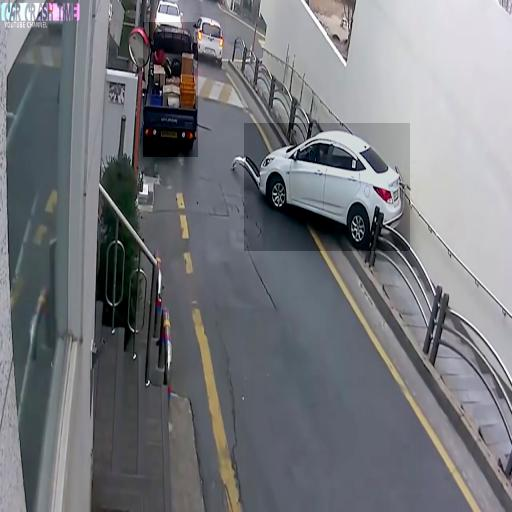小汽车: (143, 22, 198, 157), (194, 13, 226, 62)
小汽车撞物: (244, 124, 410, 252)
